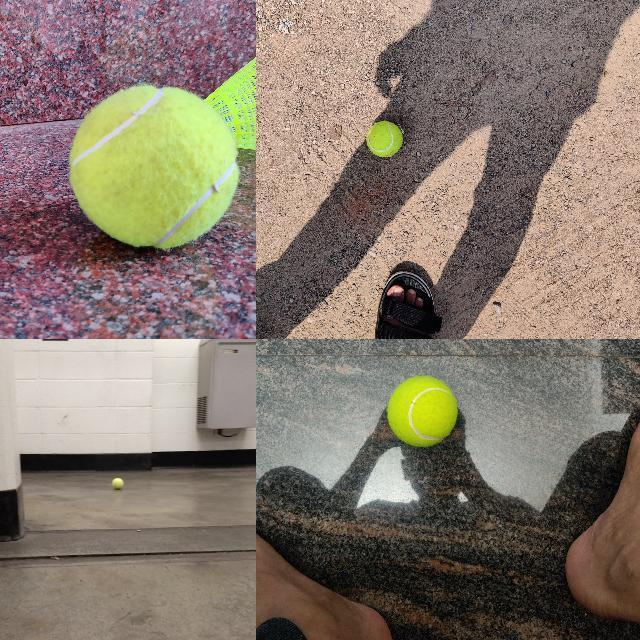tennis-ball: (68, 86, 238, 249), (387, 375, 457, 447), (366, 121, 402, 157), (111, 478, 123, 489)
